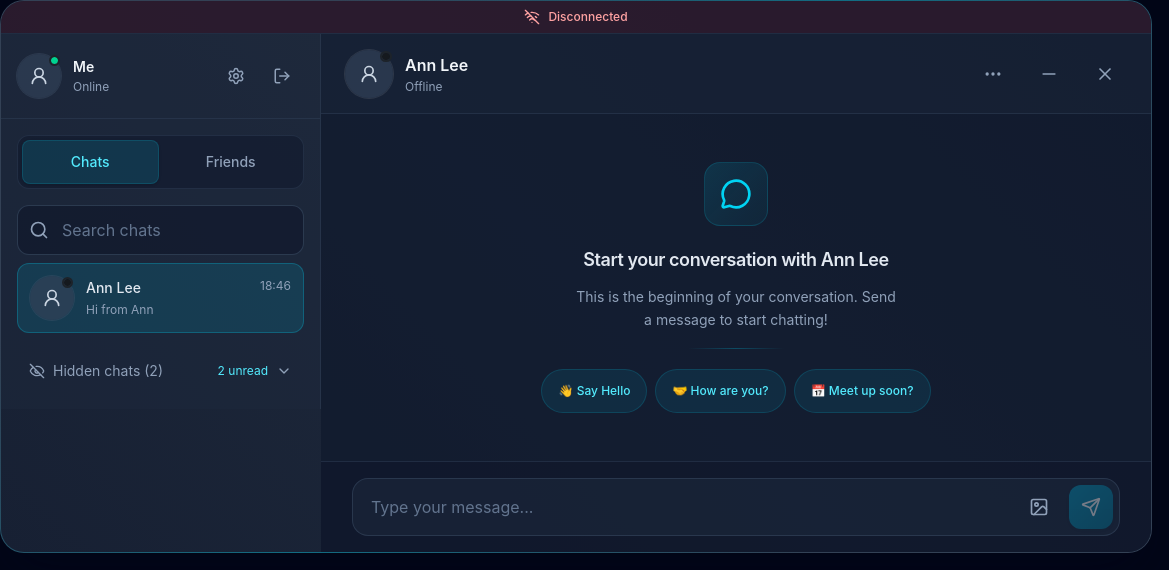
Scenario: minimized and hidden chats › hides the open chat from its menu, which closes it
The width and height of the screenshot is (1169, 570).
Click the button named "More actions for Ann Lee" at (993, 74), box [971,52,1015,96]
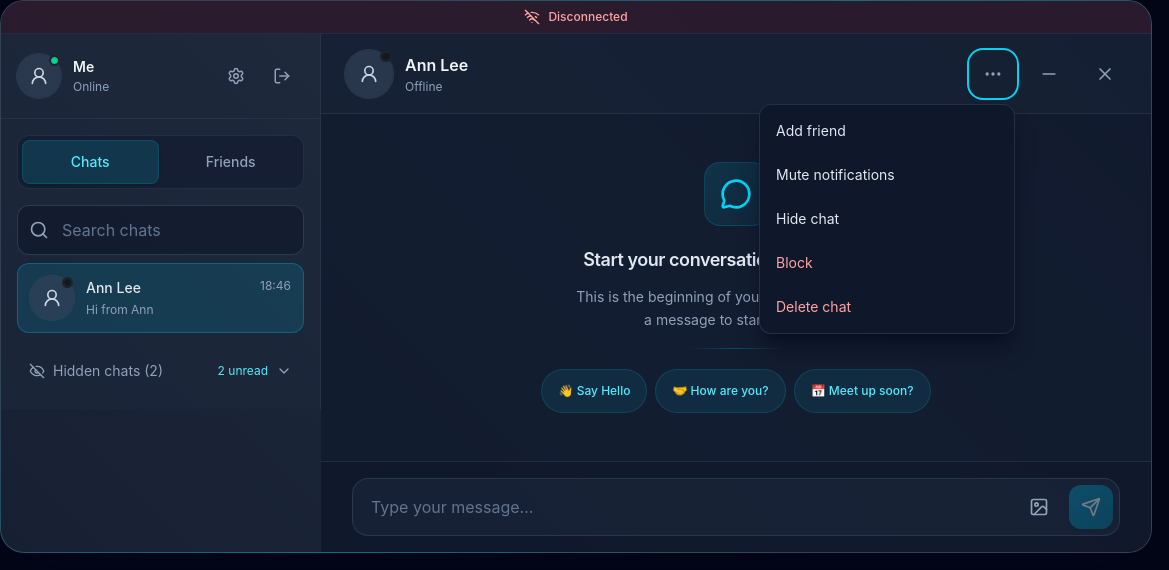
Click the button "Hide chat" at (887, 218), box [764,196,1010,240]
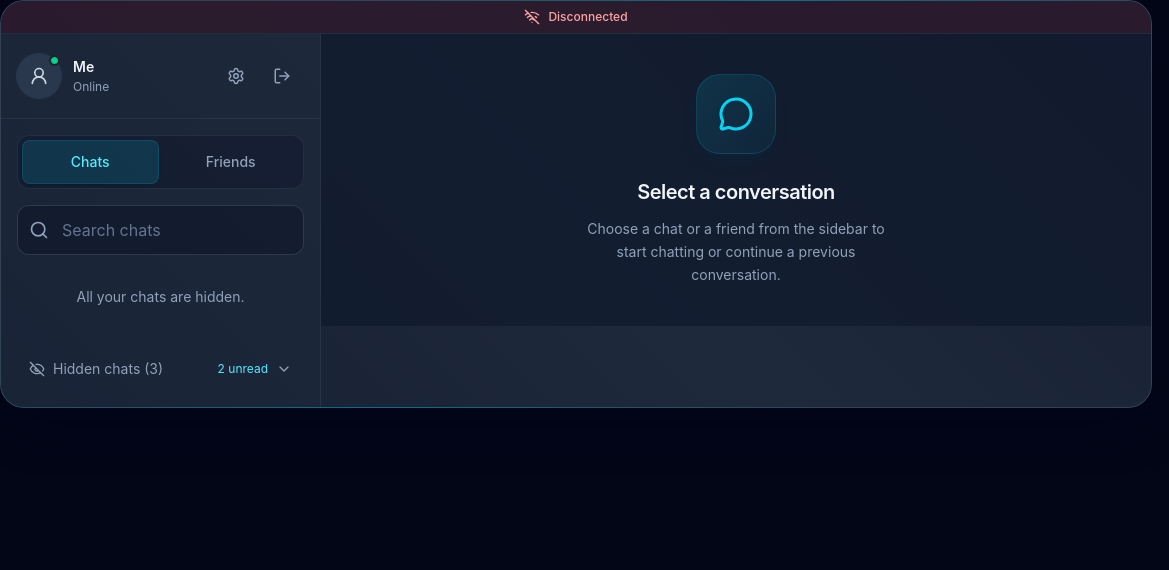
Now the button "Hidden chats (3) 2 unread" is shown, box [17,347,304,391]
